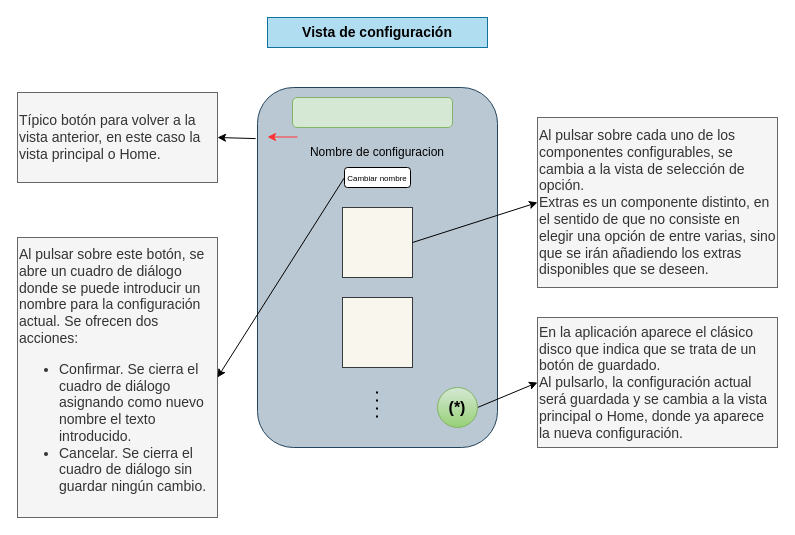
Some shapes in this 795 by 535 pixel diagram are drawn without their labels. The shapes that lost their labels are listed below. From the top down, each one's box as (x1, y1, x2, y2) in pixels, then its label:
(292, 96, 452, 128): Menú configuración
(342, 206, 412, 278): MODELO
(342, 296, 412, 368): COLOR
